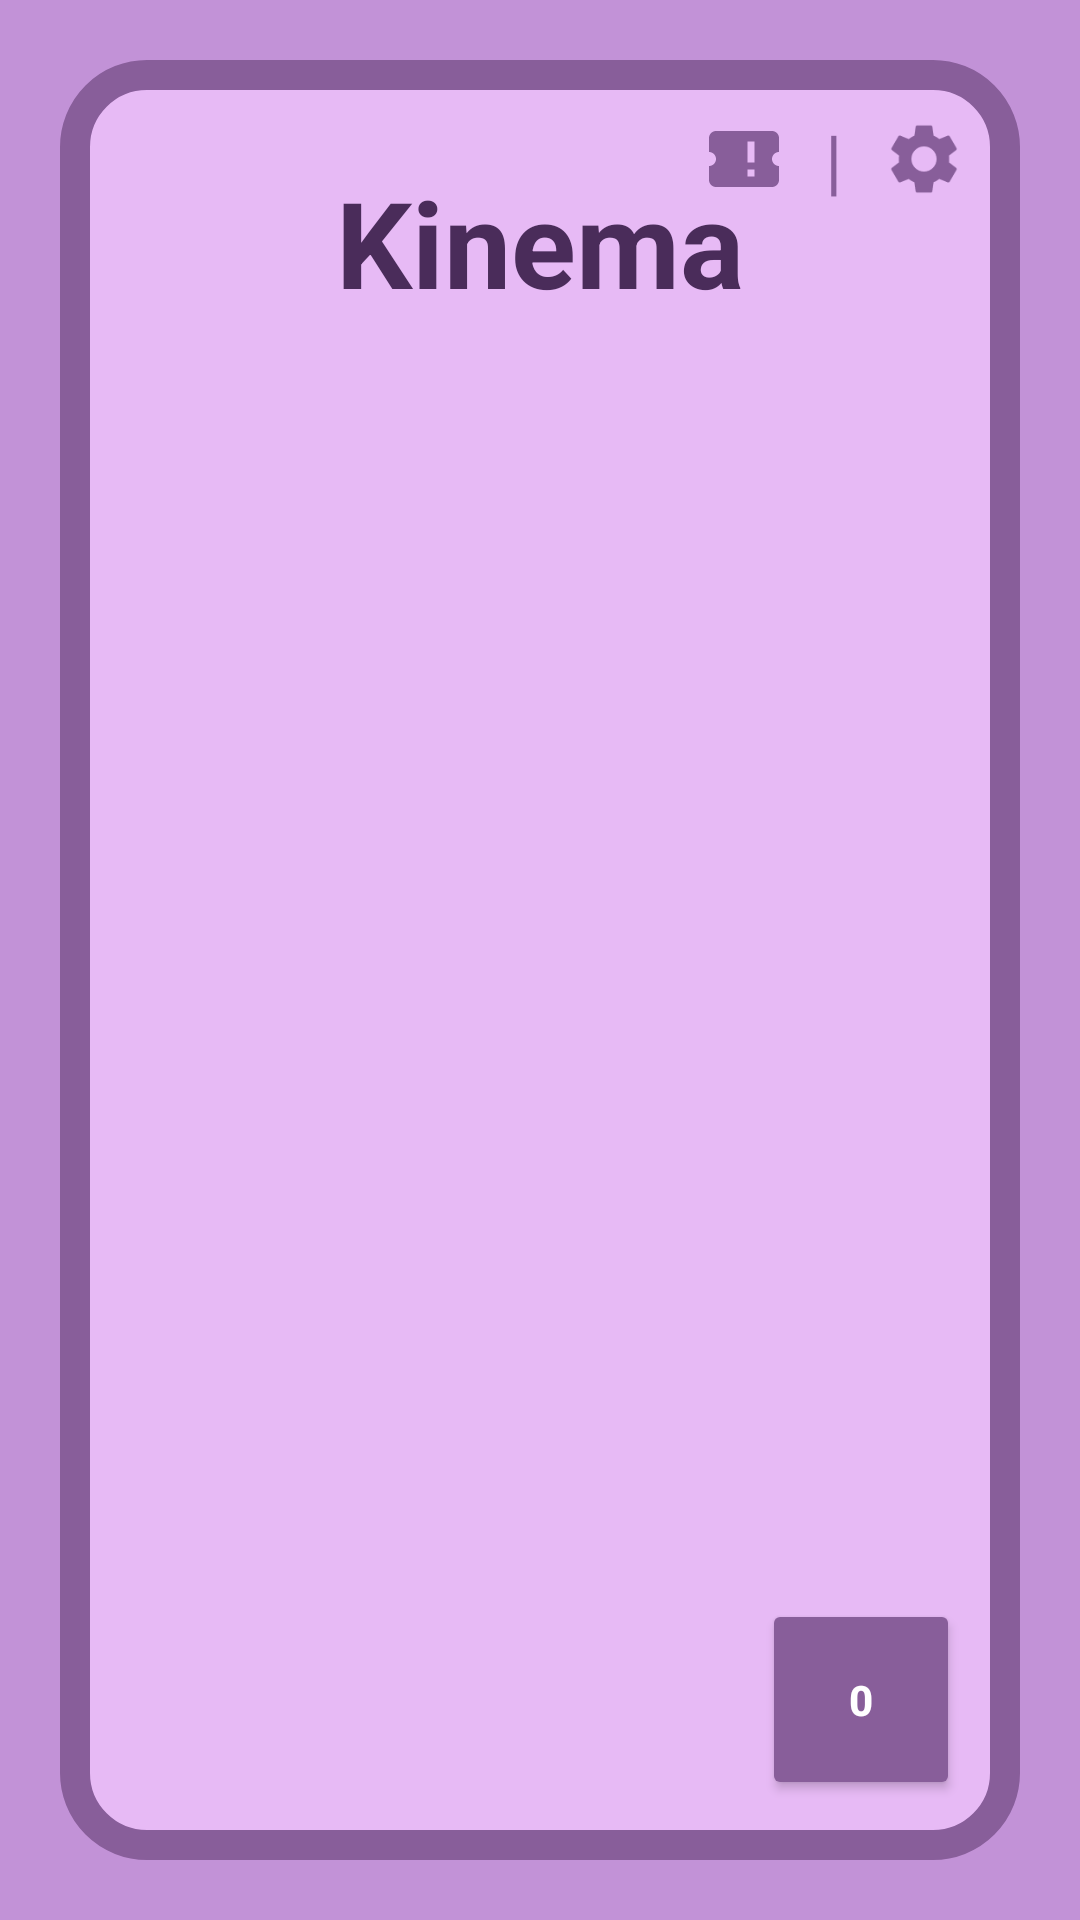

Where to tap for icons on this 1080×1920 app screen, as [x,y]:
Les meves entrades: [744,159]
